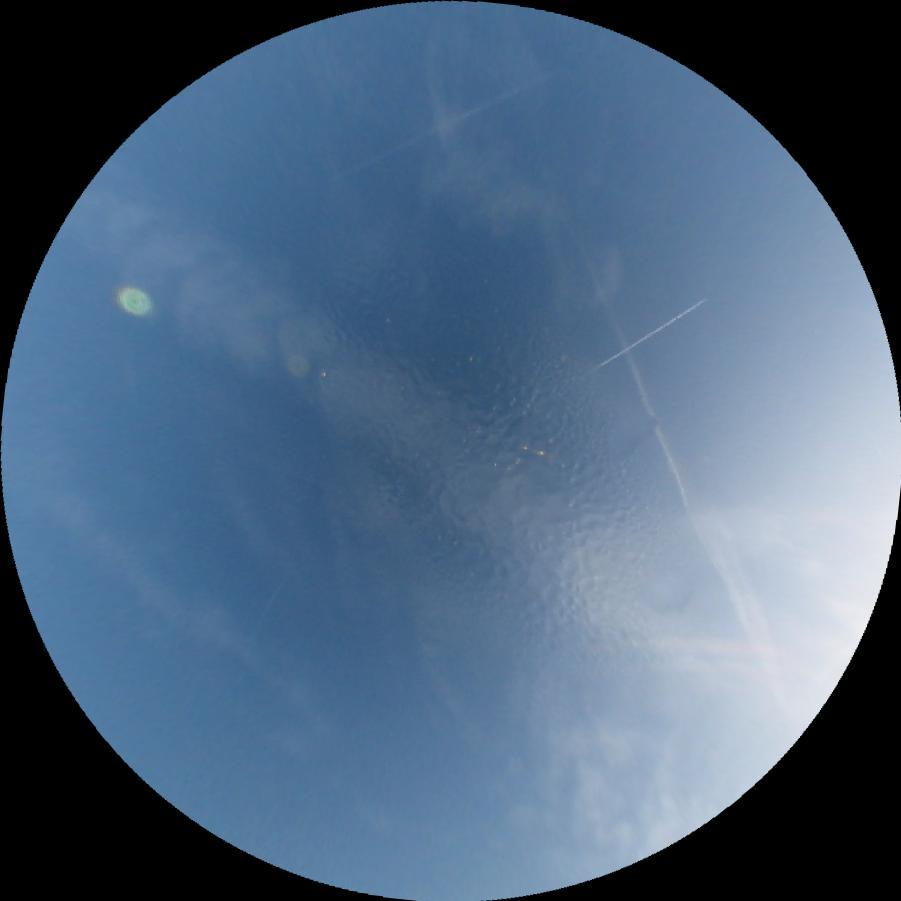contrail young: (328, 72, 549, 181), (594, 293, 708, 368)
